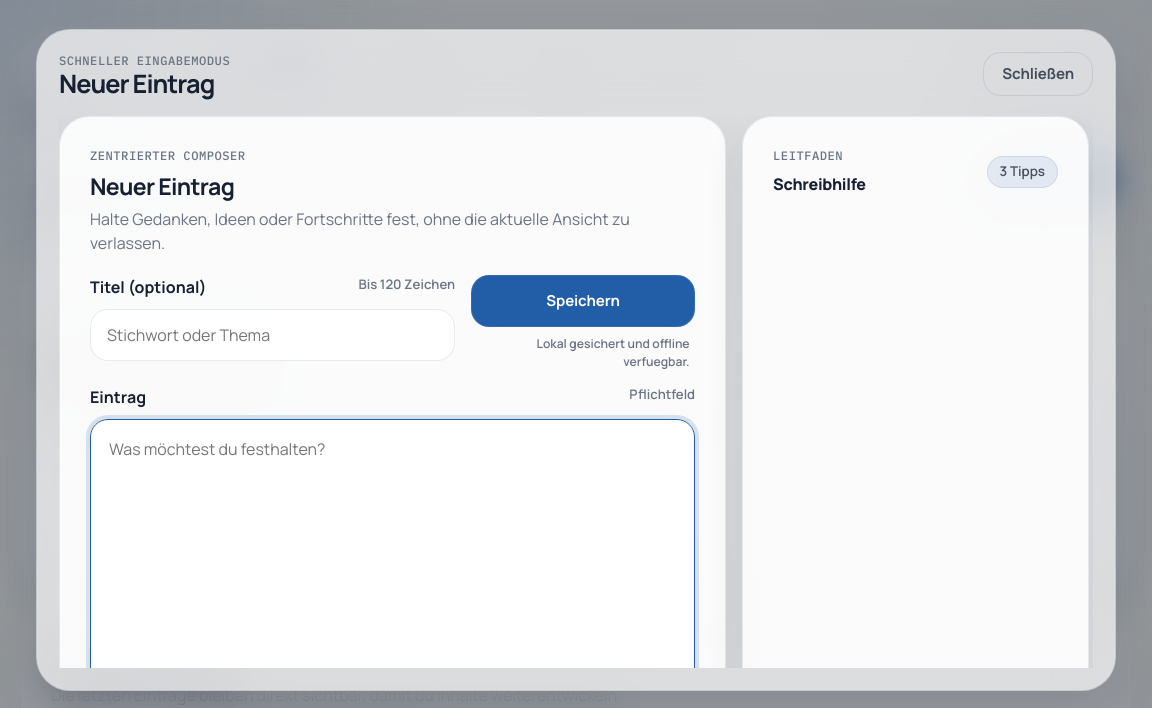
Test: App routing › oeffnet den Composer als Dialog ueber der aktuellen Ansicht und schliesst ihn wieder
This screenshot has width=1152, height=708.
expect the text "Zentrierter Composer" is shown: met, box [90, 148, 246, 163]
Click the button with aria-label "Dialog schließen": (1038, 74) [983, 52, 1093, 96]
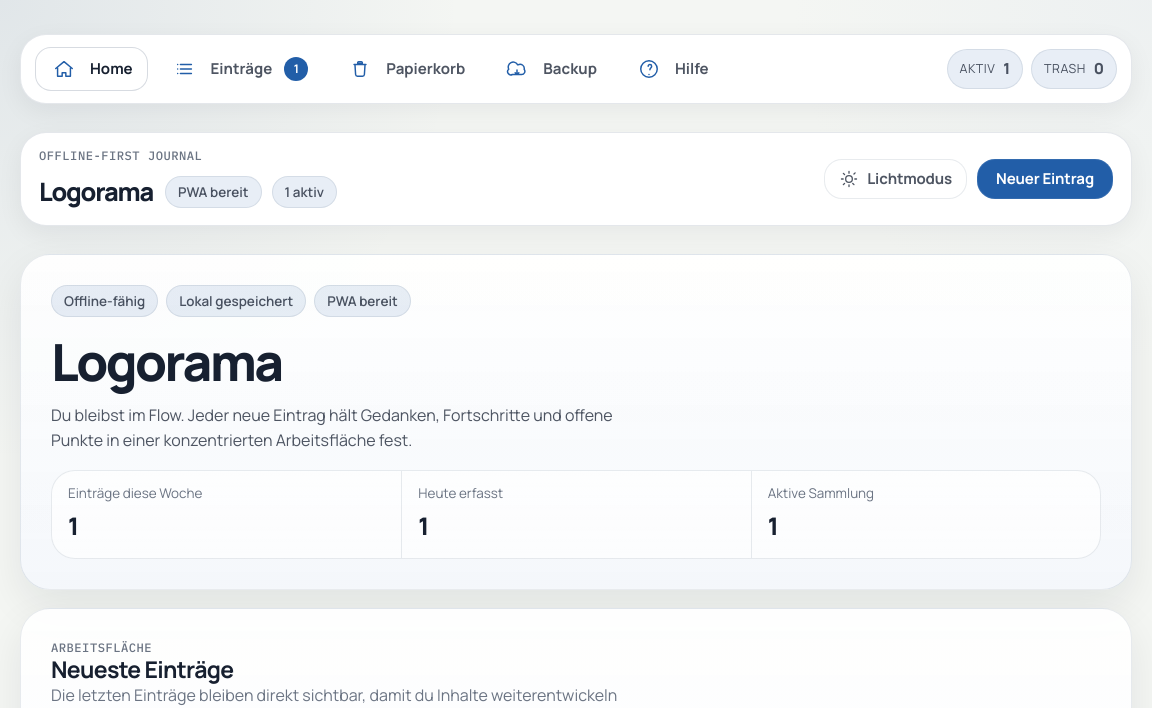
expect the heading "Logorama" is shown: met, box [51, 326, 282, 396]
expect the dialog is gone: met
